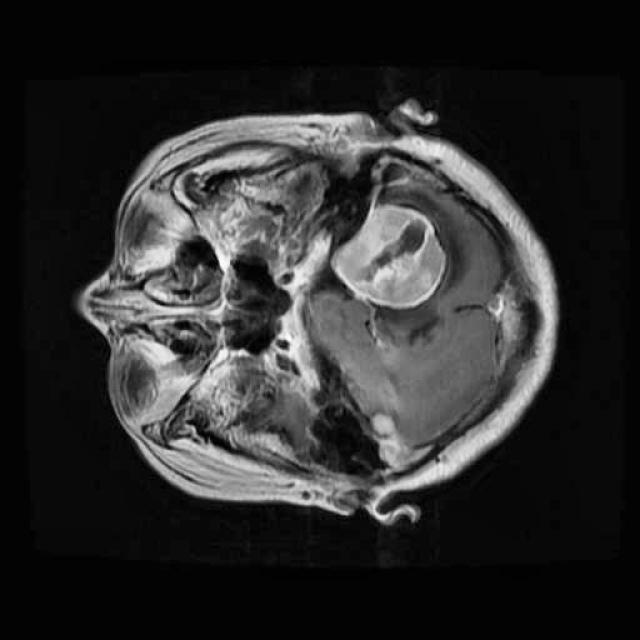Tumor: (318, 188, 454, 321)
